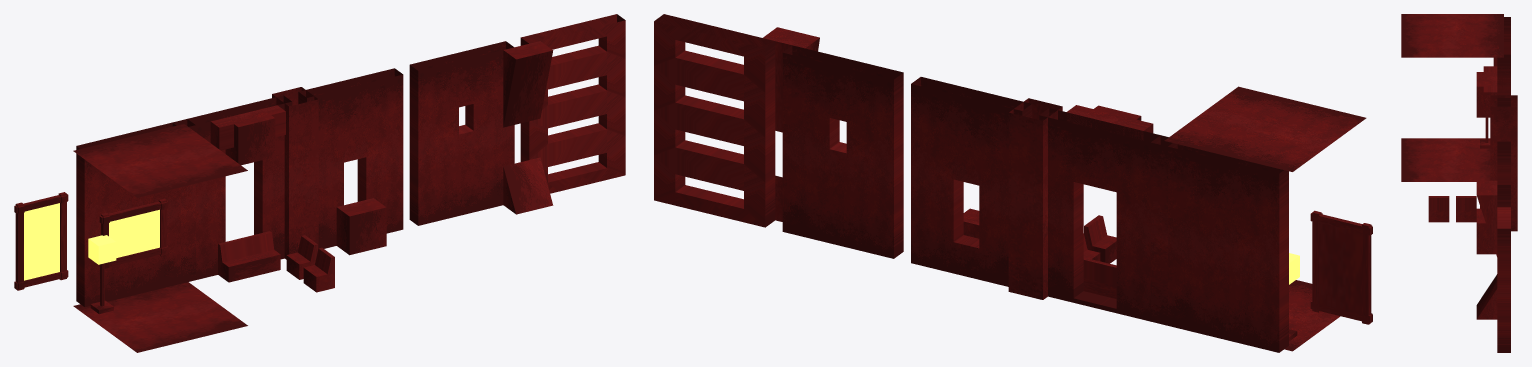
File: DisolveMaze.fbx
The picture shows the model from 3 angles, left to right: view 1: azimuth 30°, elevation 25°; view 2: azimuth 150°, elevation 25°; view 3: azimuth 270°, elevation 25°; orthographic projection. The views are drawn at different scales.
Parts seen in each view (by area): view 1: Plane.029, Plane.031, Plane.035, Plane.030, Plane.027, Plane.028, Plane.033, Cube.026, Cube.014, Cube.025, Cube.023, Cube.015 (+5 smaller); view 2: Plane.029, Plane.027, Plane.035, Plane.030, Plane.028, Plane.031, Plane.033, Cube.026, Plane.032, Cube.014, Cube.023, Cube.017 (+1 smaller); view 3: Plane.031, Plane.035, Plane.033, Cube.017, Cube.014, Cube.023, Cube.022, Plane.029, Cube.015, Plane.028, Plane.027, Plane.032 (+2 smaller).
Part boxes in pixels (bbox=[...]): Plane.029: bbox=[409, 41, 514, 225]; Plane.031: bbox=[73, 124, 247, 352]; Plane.035: bbox=[520, 14, 625, 193]; Plane.030: bbox=[298, 68, 403, 248]; Plane.027: bbox=[76, 122, 180, 307]; Plane.028: bbox=[187, 95, 292, 279]; Plane.033: bbox=[272, 87, 318, 259]; Cube.026: bbox=[14, 192, 68, 290]; Cube.014: bbox=[503, 41, 553, 127]; Cube.025: bbox=[99, 198, 168, 269]; Cube.023: bbox=[210, 105, 285, 165]; Cube.015: bbox=[336, 198, 386, 255]; Plane.029: bbox=[782, 45, 903, 258]; Plane.027: bbox=[1168, 143, 1288, 352]; Plane.035: bbox=[654, 14, 775, 227]; Plane.030: bbox=[911, 77, 1032, 286]; Plane.028: bbox=[1039, 108, 1160, 321]; Plane.031: bbox=[1164, 86, 1366, 351]; Plane.033: bbox=[1008, 98, 1062, 299]; Cube.026: bbox=[1310, 210, 1372, 324]; Plane.032: bbox=[1150, 135, 1177, 325]; Cube.014: bbox=[763, 27, 819, 132]; Cube.023: bbox=[1066, 105, 1153, 140]; Cube.017: bbox=[1083, 215, 1116, 263]; Plane.031: bbox=[1401, 14, 1503, 181]; Plane.035: bbox=[1497, 191, 1510, 352]; Plane.033: bbox=[1490, 95, 1517, 231]; Cube.017: bbox=[1428, 196, 1476, 222]; Cube.014: bbox=[1476, 180, 1497, 256]; Cube.023: bbox=[1476, 66, 1497, 117]; Cube.022: bbox=[1476, 274, 1497, 319]; Plane.029: bbox=[1497, 147, 1510, 190]; Cube.015: bbox=[1476, 208, 1495, 254]; Plane.028: bbox=[1497, 60, 1510, 103]; Plane.027: bbox=[1497, 17, 1510, 60]; Plane.032: bbox=[1497, 55, 1510, 95].
Bounding box in the file's own units: 16.5 × 4 × 3.4.
